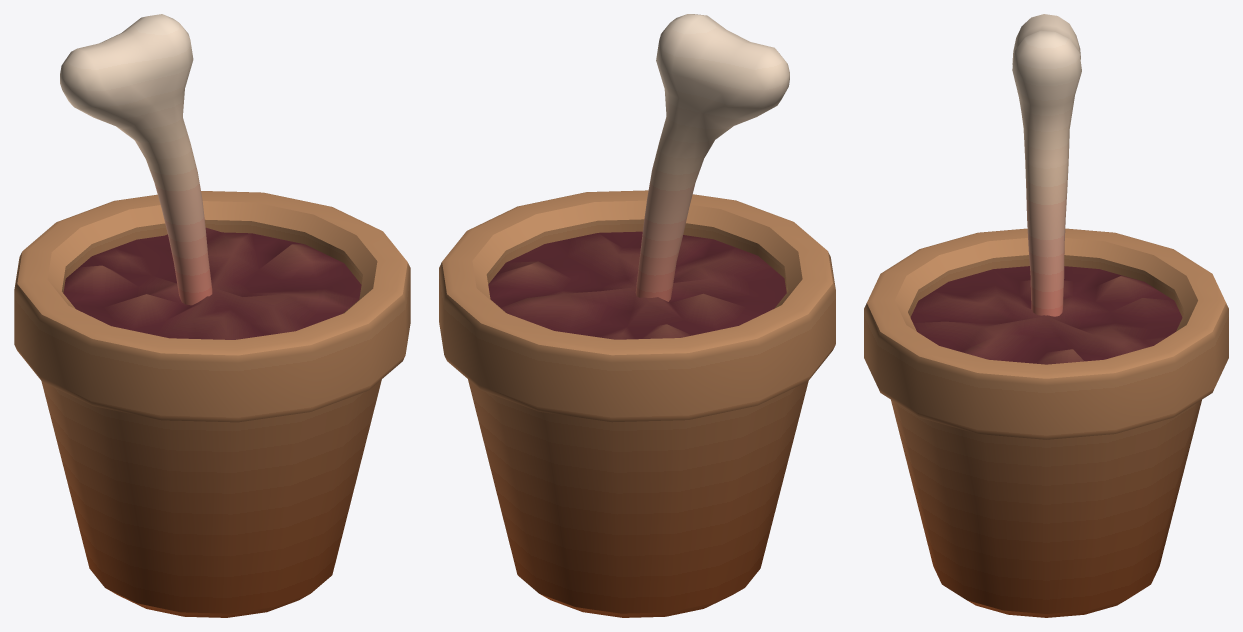
File: BonePot.fbx
3 views of the same model, side by side, from view 1: azimuth 30°, elevation 25°; view 2: azimuth 150°, elevation 25°; view 3: azimuth 270°, elevation 25° (orthographic). The views are drawn at different scales.
Parts seen in each view (by area): view 1: BonePot_Adjusted; view 2: BonePot_Adjusted; view 3: BonePot_Adjusted.
Part boxes in pixels (x1=…): BonePot_Adjusted: x1=14, y1=14, x2=410, y2=617; BonePot_Adjusted: x1=439, y1=14, x2=835, y2=617; BonePot_Adjusted: x1=864, y1=14, x2=1228, y2=617.
Size of the model in its own units: 12.25 by 19.2 by 12.25.
